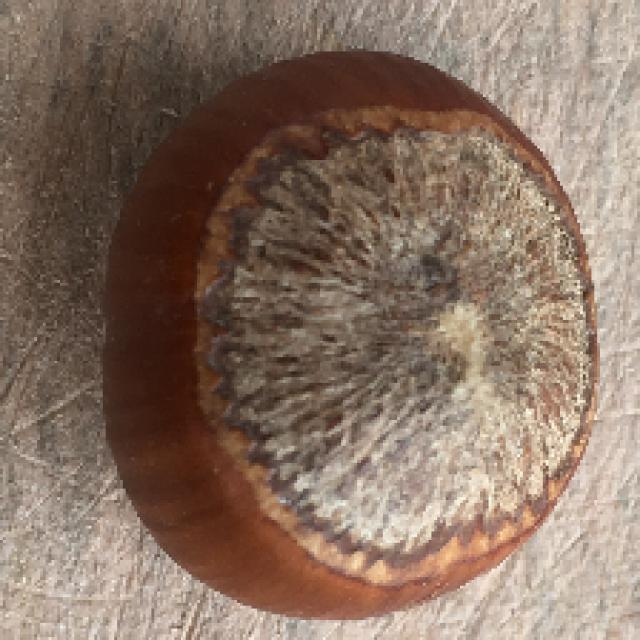qualityHazelnut: (102, 51, 604, 615)
